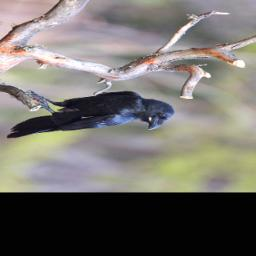Crow: (0, 81, 187, 157)
